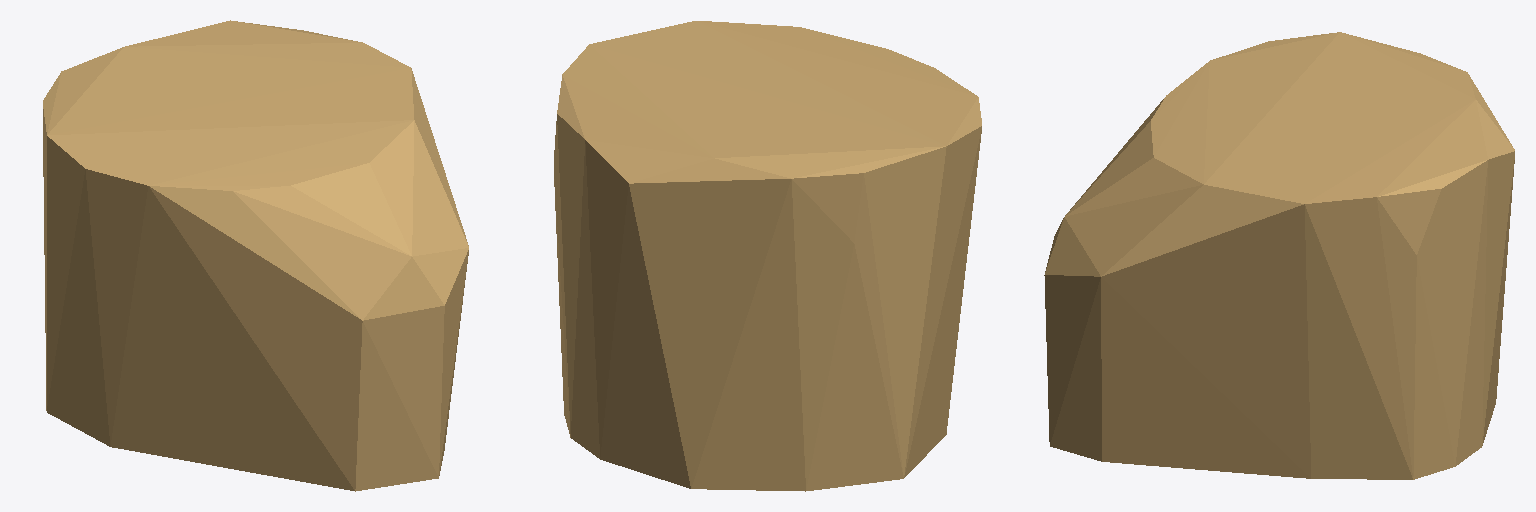
URDF robot description (obj_01):
<?xml version="1.0"?>
<robot name="obj_01">
  <!-- coffee mug: ceramic, 356 g. Written by Darius 0.2.0. Link frame: +z up, origin at the capture-time bounding-box center; place it at the pose in world.json -->
  <mujoco>
    <compiler meshdir="../meshes/" discardvisual="true" balanceinertia="true" fusestatic="false" />
  </mujoco>
  <link name="obj_01">
    <inertial>
      <origin xyz="0.00228 0.00422 -0.00057" rpy="0 0 0" />
      <mass value="0.3555" />
      <inertia ixx="0.000695111" ixy="3.23996e-05" ixz="4.93127e-06" iyy="0.000570283" iyz="-2.69579e-05" izz="0.000693685" />
    </inertial>
    <visual>
      <geometry>
        <mesh filename="../meshes/obj_01_visual.obj" />
      </geometry>
      <material name="obj_01_color">
        <color rgba="0.827 0.698 0.482 1" />
      </material>
    </visual>
    <collision name="obj_01">
      <geometry>
        <mesh filename="../meshes/obj_01.obj" />
      </geometry>
    </collision>
    <contact>
      <lateral_friction value="0.45" />
      <restitution value="0.15" />
    </contact>
  </link>
</robot>

--- What the picture shows (computed from the rendered views, not written in the file) ---
Views: 3 orthographic renders of the robot side by side, from view 1: azimuth 30°, elevation 25°; view 2: azimuth 150°, elevation 25°; view 3: azimuth 270°, elevation 25°.
Robot: obj_01 — 1 links, 0 joints (none); root link obj_01; default pose: every joint at zero.
Links seen in each view (by area): view 1: obj_01; view 2: obj_01; view 3: obj_01.
Link boxes in pixels (x1=…): obj_01: x1=43, y1=20, x2=468, y2=491; obj_01: x1=554, y1=21, x2=981, y2=491; obj_01: x1=1044, y1=32, x2=1514, y2=479.
Bounding box of the posed robot: 0.1006 × 0.119 × 0.0831 m (x, y, z).
1 mesh visuals loaded from 1 distinct referenced files (1 OBJ).
